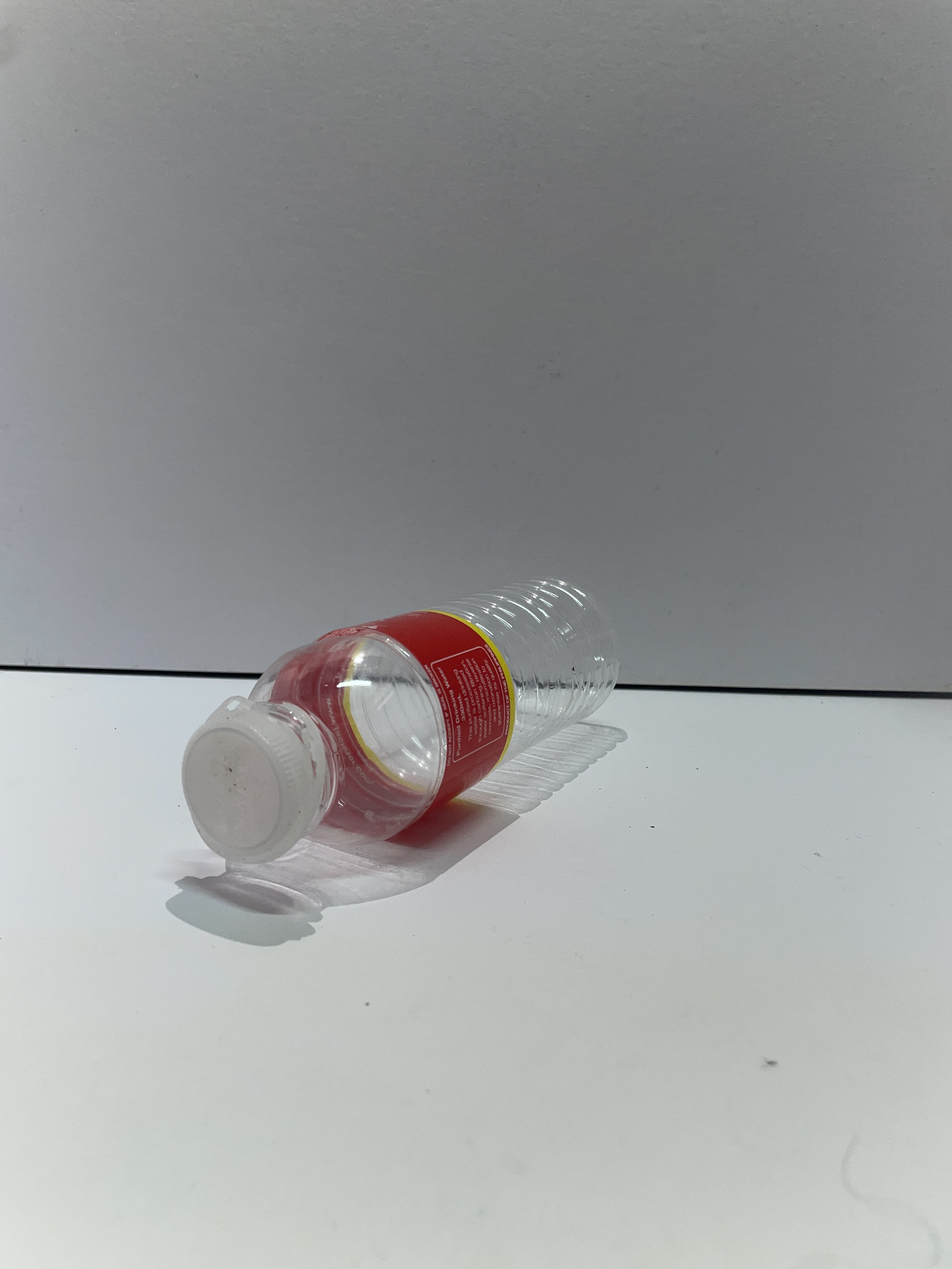Nature spring victory liner 330ml: (182, 579, 618, 865)
